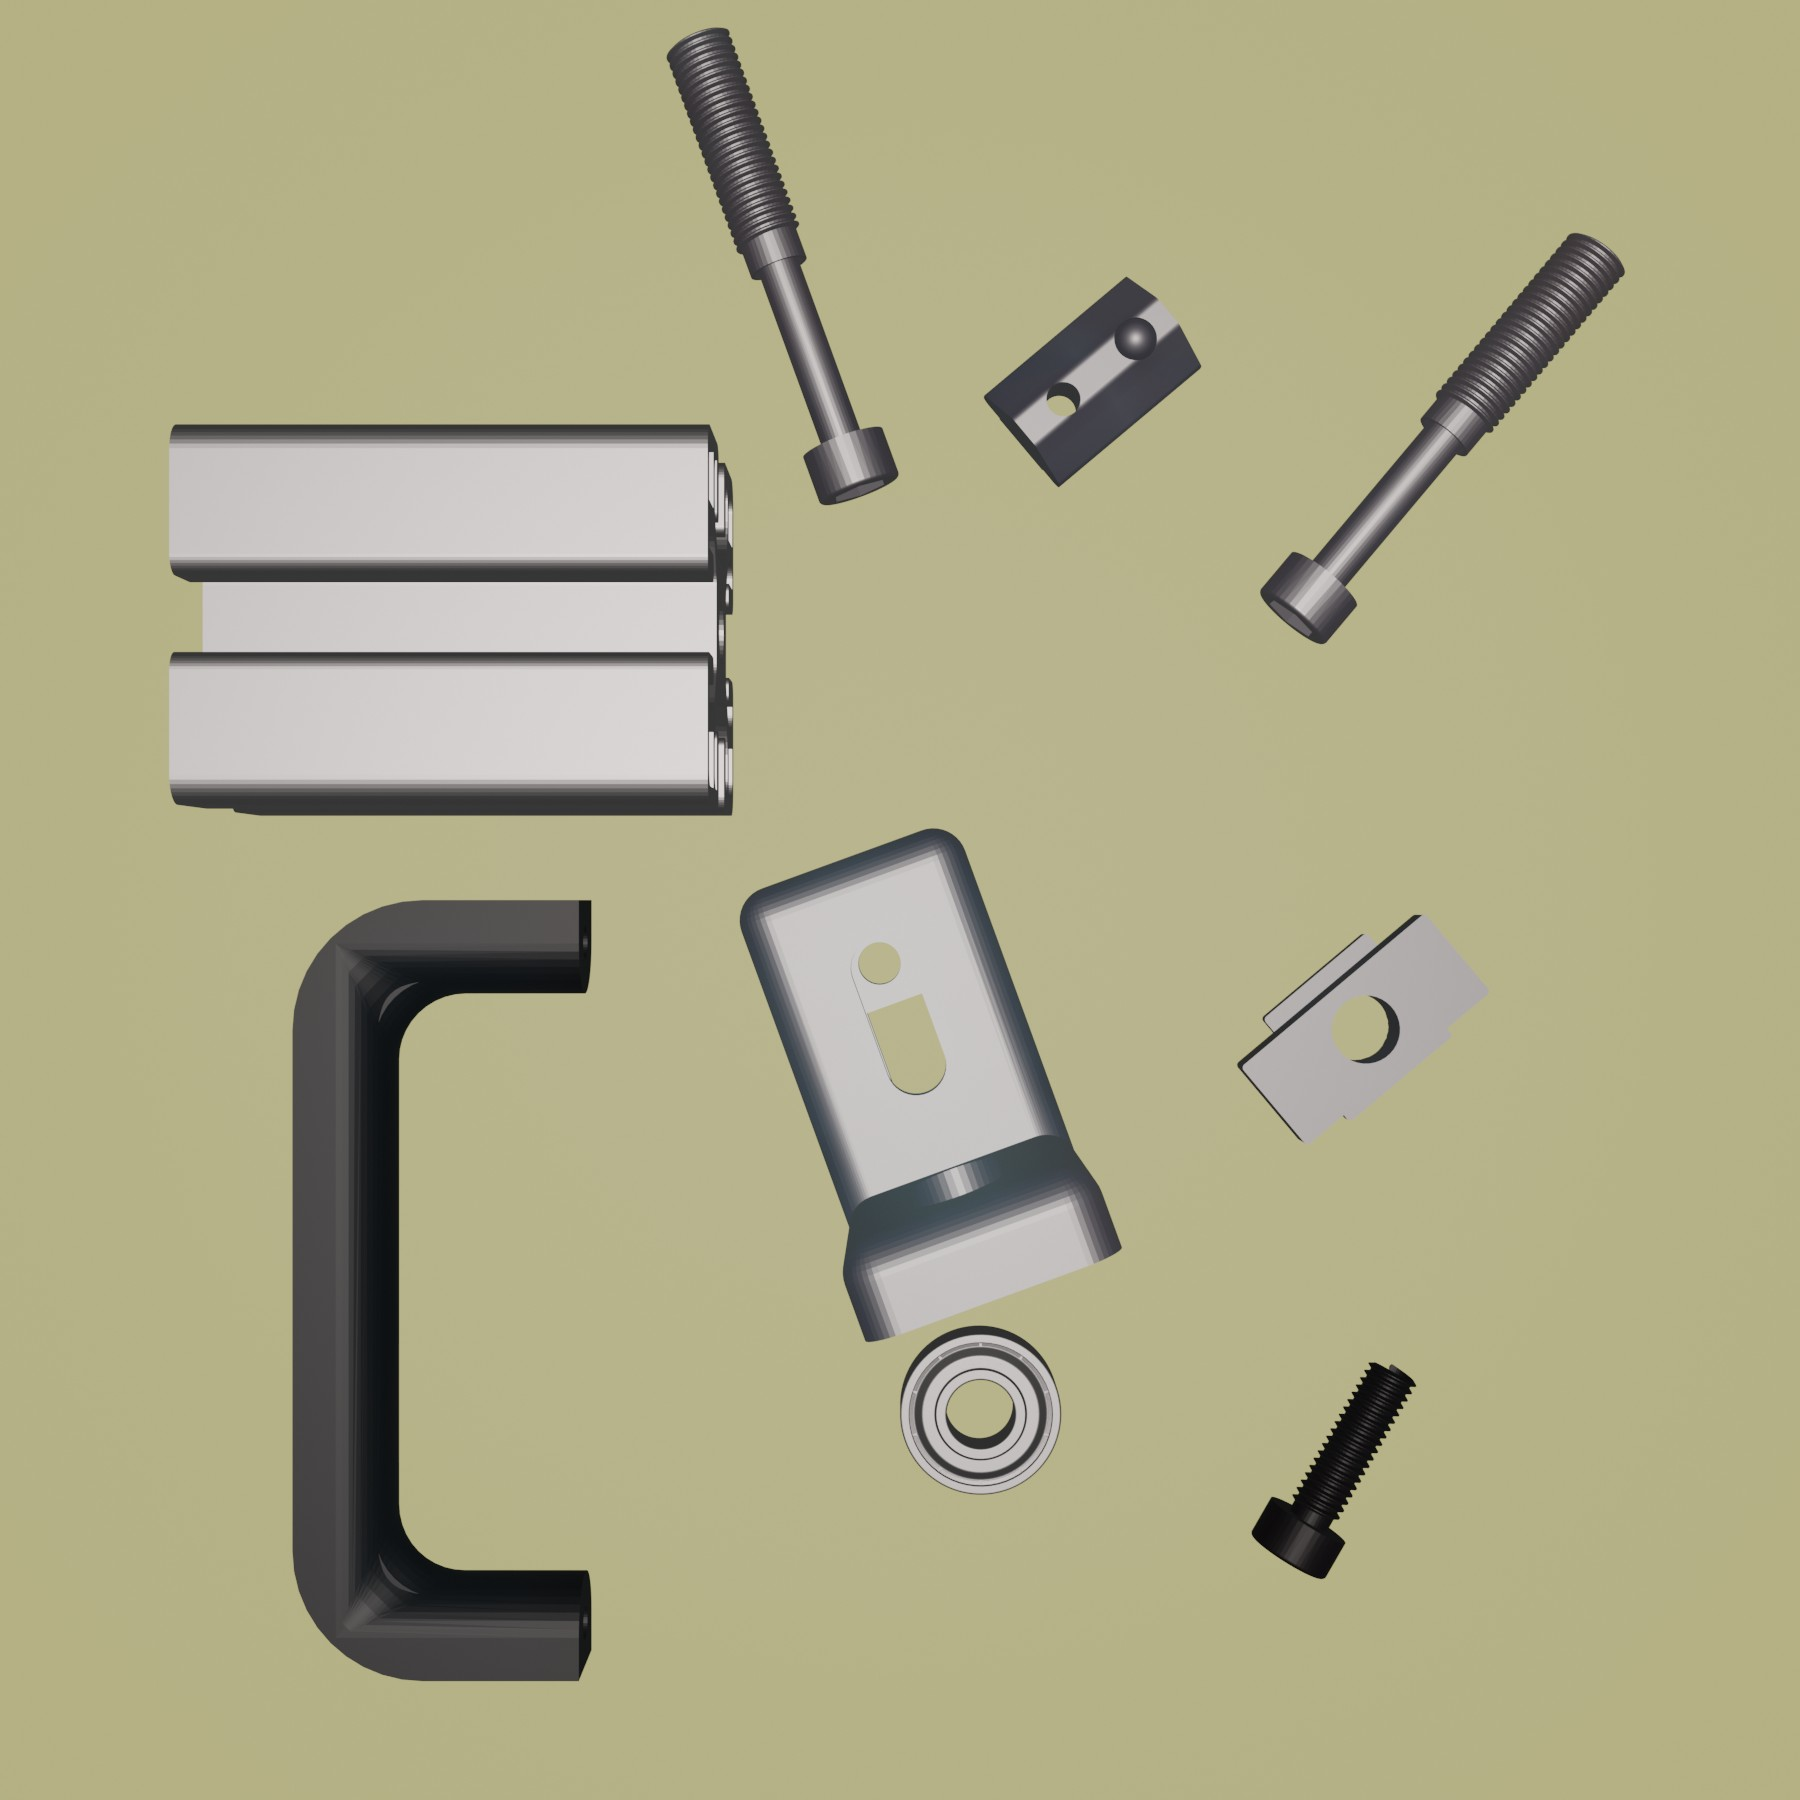Aluminium Extension: (162, 420, 738, 819)
Ball Bearing: (897, 1324, 1063, 1493)
Multiwinkel: (738, 824, 1123, 1343)
Pull Handle: (285, 895, 597, 1686)
Shoulder Socket Head Cap Screw: (1259, 231, 1627, 648), (663, 23, 900, 509)
Socket Head Cap Screw: (1249, 1357, 1419, 1581)
T Nut Square: (1236, 908, 1492, 1146)
T Spring Nut: (982, 272, 1205, 490)
